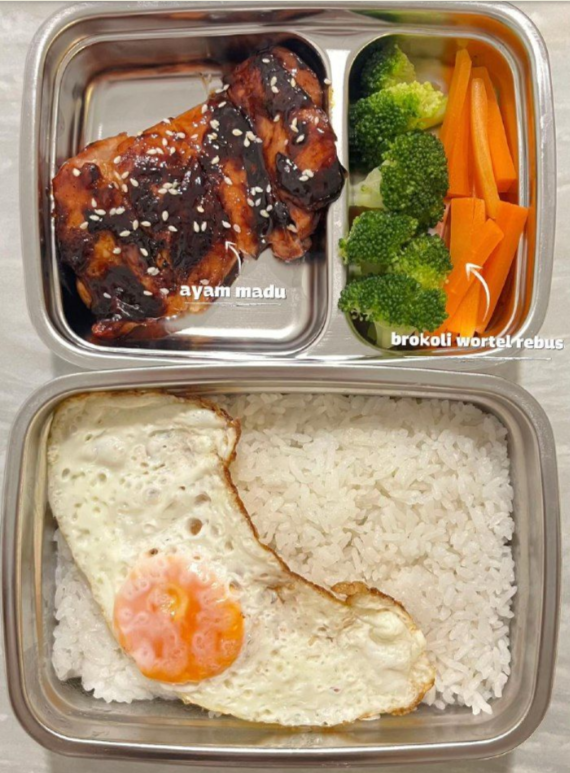buah_sayur_lainnya: (358, 74, 436, 319)
buah_sayur_vitA: (452, 79, 517, 323)
daging: (97, 137, 298, 255)
makanan_berpati: (282, 414, 494, 561)
telur: (116, 485, 245, 656)
